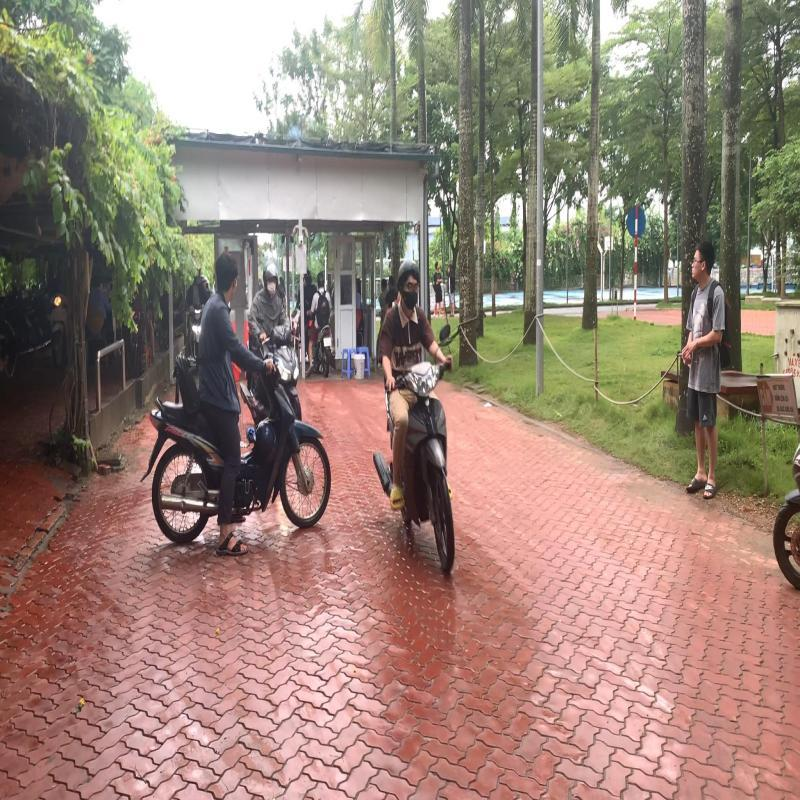nohelmet: (213, 247, 238, 303)
